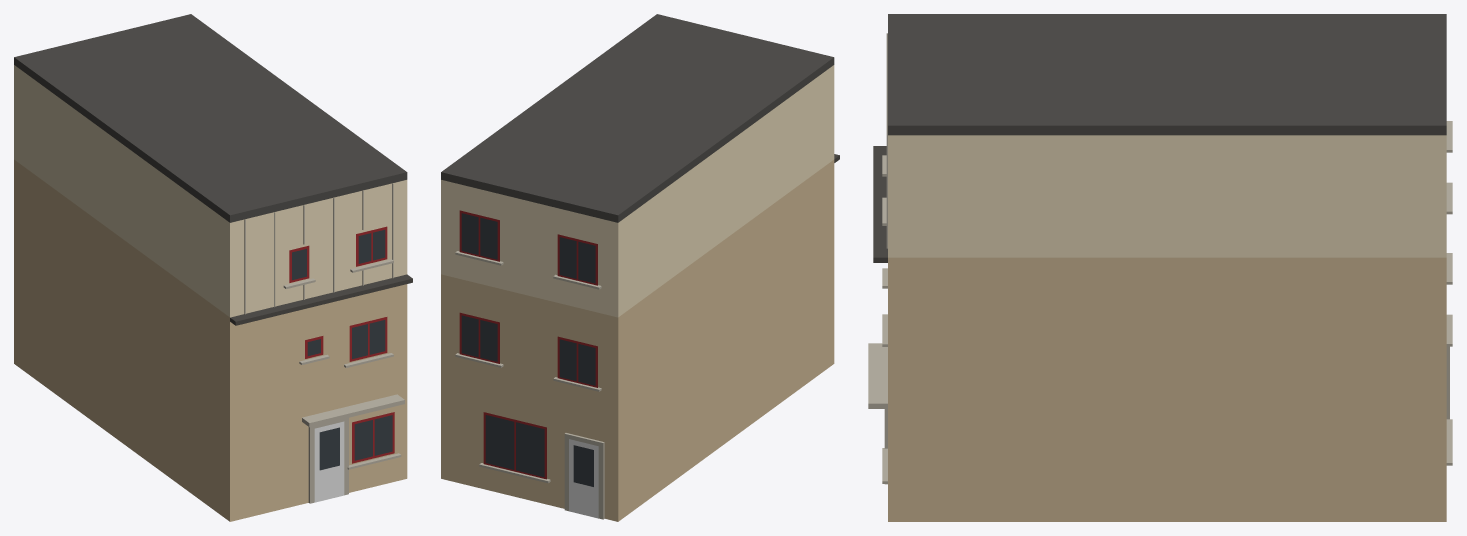
The model's file is nw-ma-clad-top__buff__3__flat__long__solid__f0d1__mirror.glb.
3 views of the same model, side by side, from view 1: azimuth 30°, elevation 25°; view 2: azimuth 150°, elevation 25°; view 3: azimuth 270°, elevation 25° (orthographic). The views are drawn at different scales.
Parts seen in each view (by area): view 1: nw-ma-clad-top__buff__3__flat__long__solid__f0d1__mirror; view 2: nw-ma-clad-top__buff__3__flat__long__solid__f0d1__mirror; view 3: nw-ma-clad-top__buff__3__flat__long__solid__f0d1__mirror.
Boxes of the visible parts, x1,y1,x2,y2 form: nw-ma-clad-top__buff__3__flat__long__solid__f0d1__mirror: (14, 14, 412, 521); nw-ma-clad-top__buff__3__flat__long__solid__f0d1__mirror: (441, 14, 839, 521); nw-ma-clad-top__buff__3__flat__long__solid__f0d1__mirror: (868, 14, 1452, 521).
Size of the model in its own units: 5.38 by 8.9 by 11.89.
